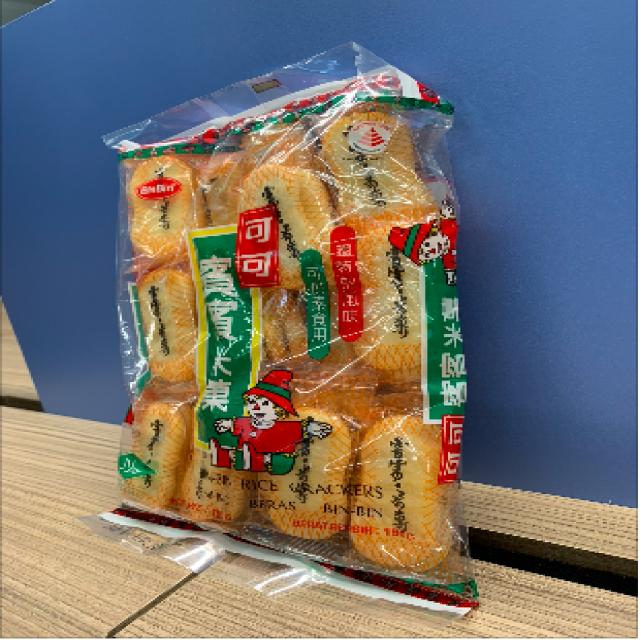object_name: (125, 111, 439, 561)
